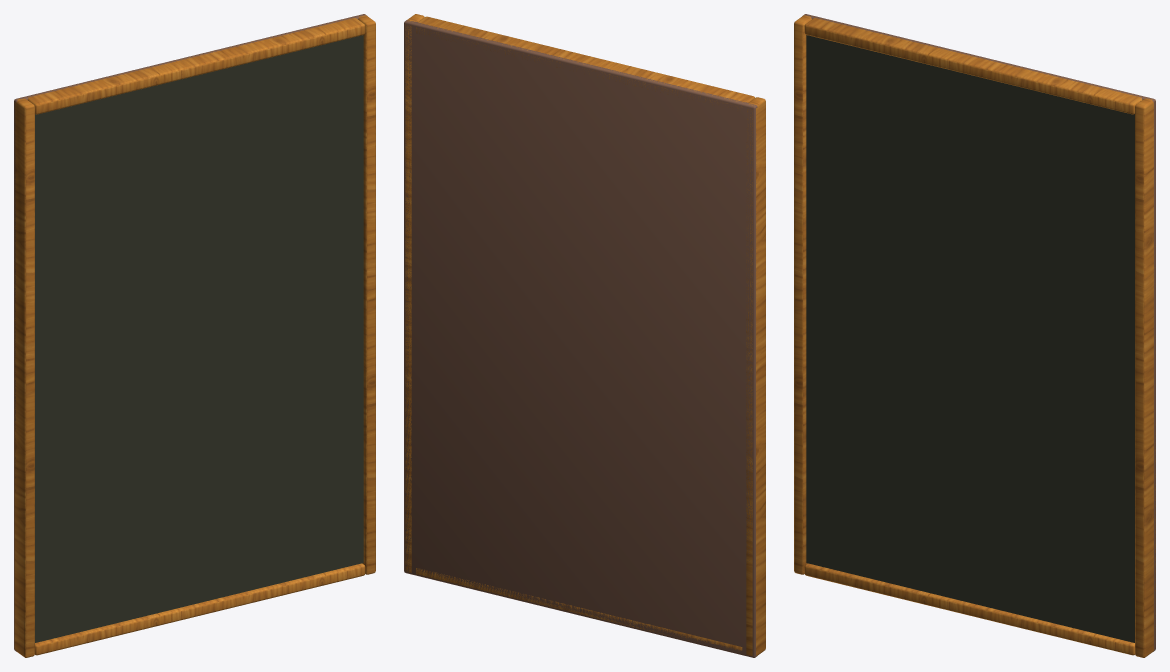
File: singer-poster.glb
3 renders of one model, left to right at view 1: azimuth 30°, elevation 25°; view 2: azimuth 150°, elevation 25°; view 3: azimuth 330°, elevation 25°, orthographic.
Parts seen in each view (by area): view 1: singer-poster; view 2: singer-poster; view 3: singer-poster.
Boxes of the visible parts, x1,y1,x2,y2 form: singer-poster: [14, 14, 375, 657]; singer-poster: [404, 14, 765, 657]; singer-poster: [794, 14, 1155, 657].
Size of the model in its own units: 0.6 by 0.9 by 0.035.
Materials: 3 (2 with a texture image).
